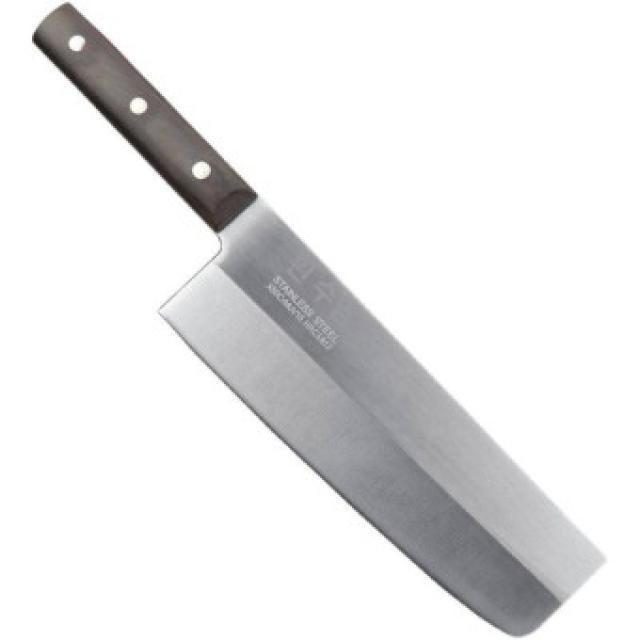knife: (37, 3, 607, 636)
